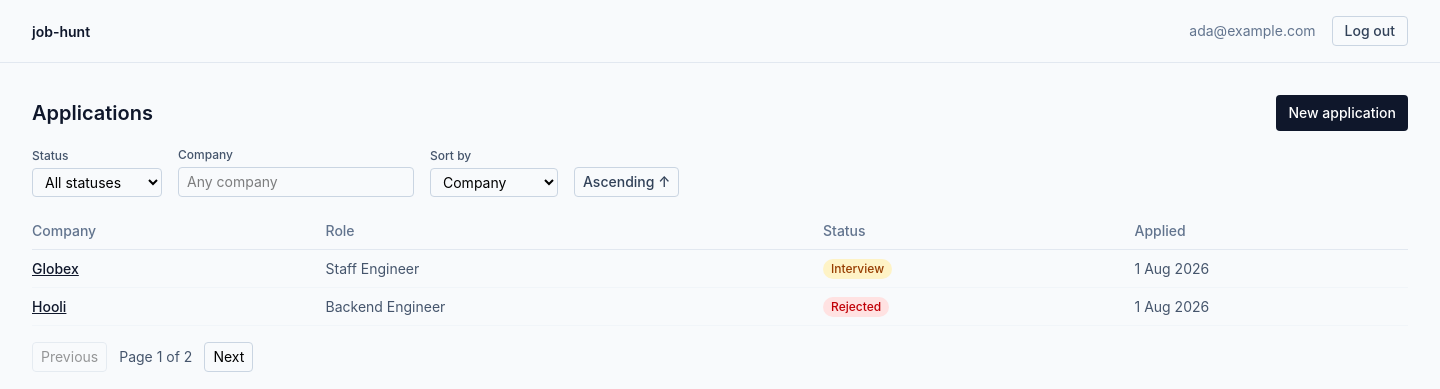
Test case: ApplicationsPage › pages through the list
This screenshot has width=1440, height=389.
Expected: the link "Globex" is shown, [32,260,79,276]
Expected: the text "Page 1 of 2" is shown, [119,347,192,367]
Step 1. Click the button "Next" → {"x": 229, "y": 357}, box [204,342,253,372]
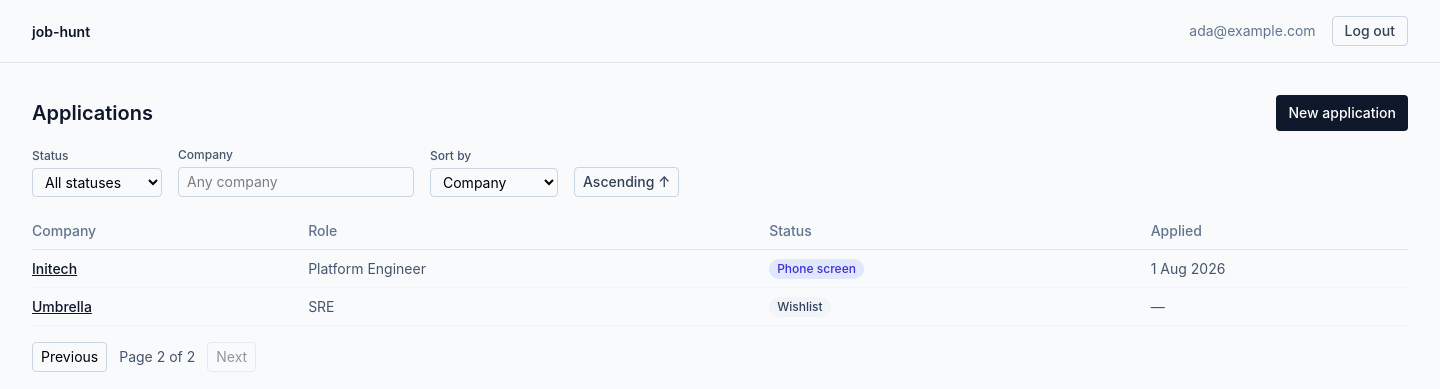
Expected: the link "Umbrella" is shown, [32,298,92,314]
Expected: the text "Page 2 of 2" is shown, [119,347,195,367]
